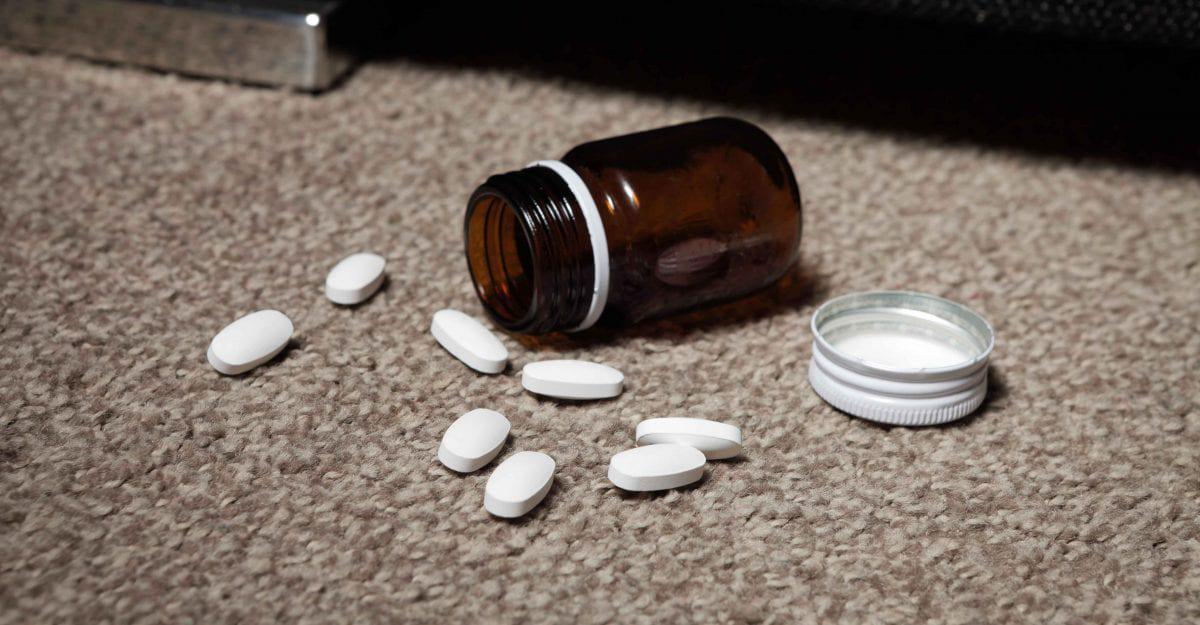tablet: (205, 302, 299, 382), (425, 306, 514, 377), (634, 415, 746, 468), (435, 405, 516, 474), (480, 449, 558, 520), (605, 444, 709, 492), (523, 358, 629, 402), (320, 249, 390, 306)
